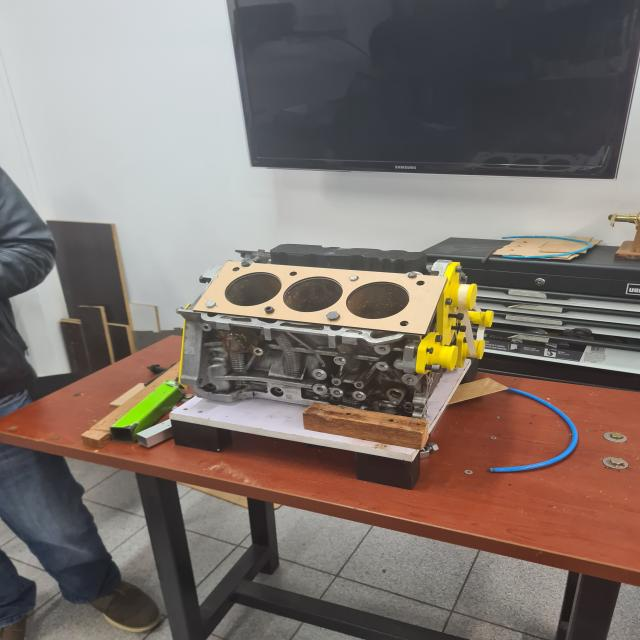vista1: (192, 261, 448, 334)
